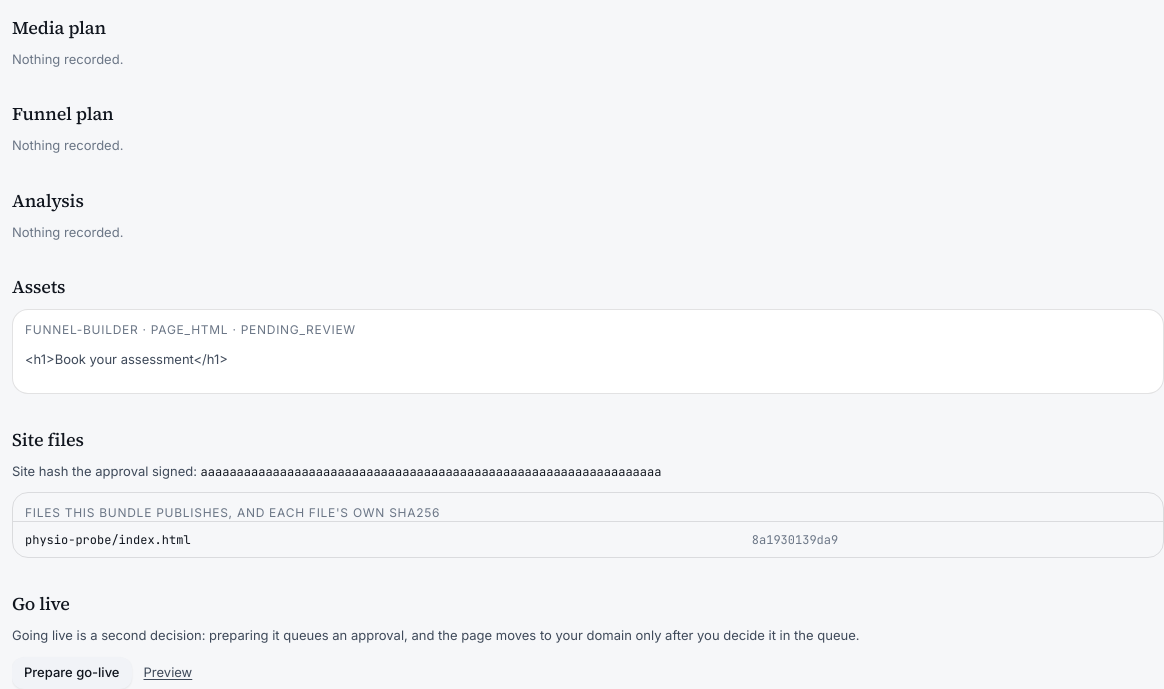
it: MarketingBundleView go-live controls › posts to the staging route and never to a decision endpoint
The image size is (1164, 689).
(page scrolled)
Click the button "Prepare go-live" at (72, 672), box [12,656,132,688]
(page scrolled)
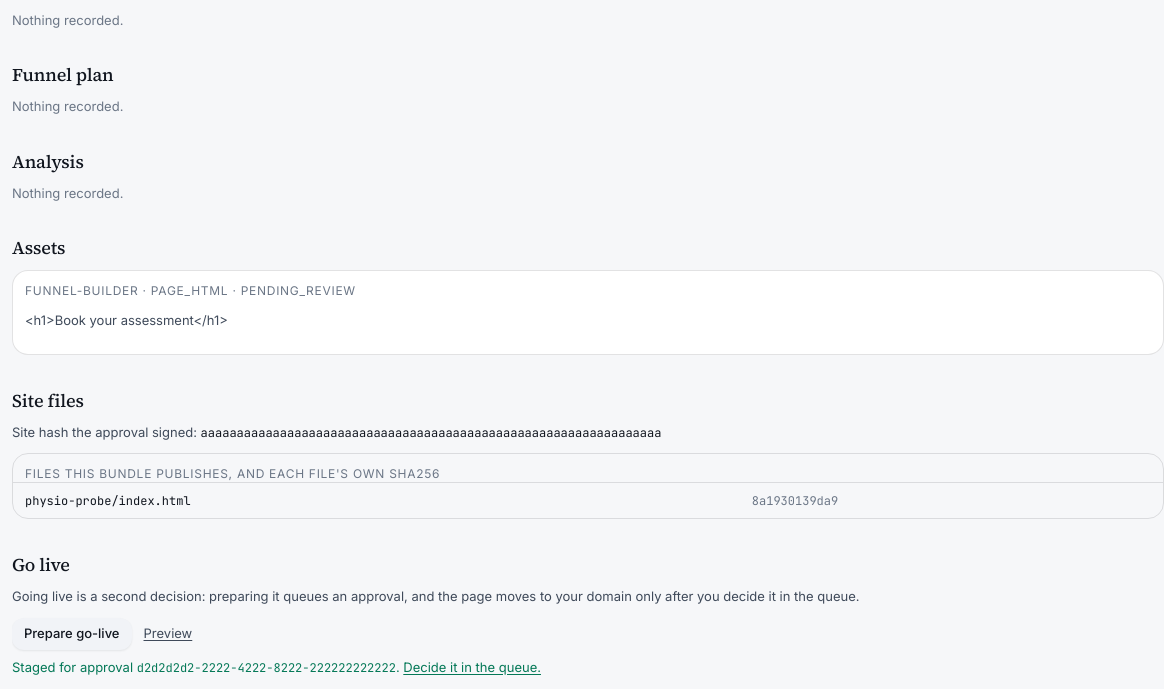
Now the text "Staged for approval" is shown, box [12,658,137,674]
